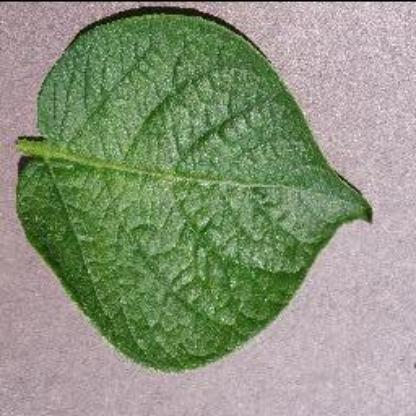Healthy-plant: (12, 7, 378, 381)
